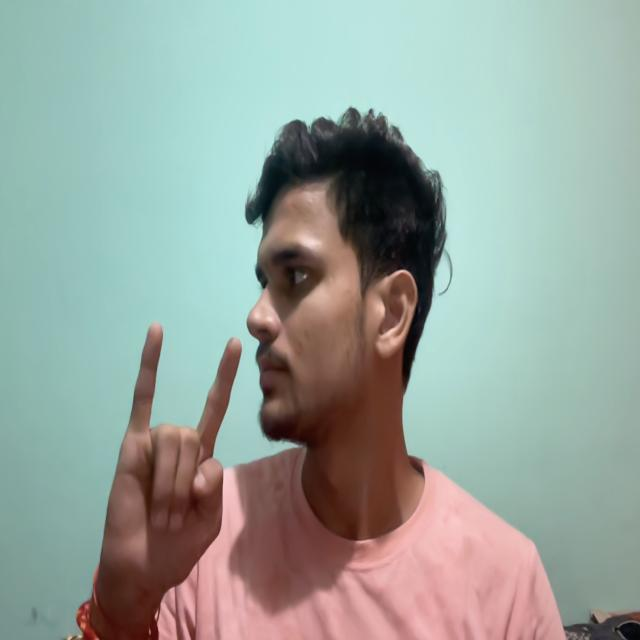iloveyou: (67, 292, 247, 620)
